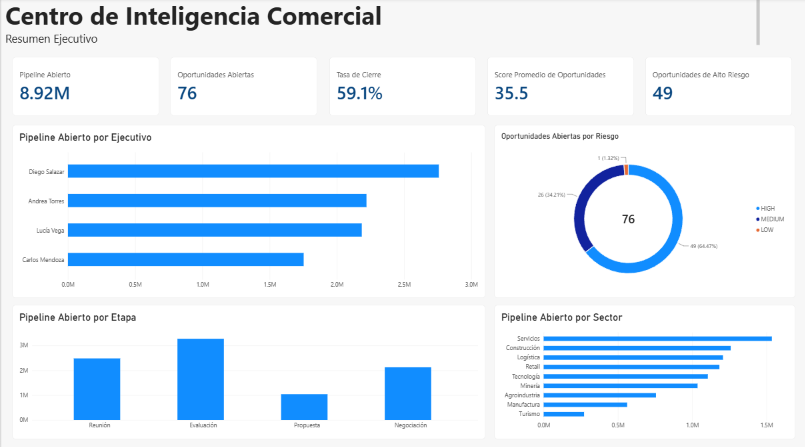

The page's visual inventory and layout, read from the dashboard file:
{"tool":"powerbi","page":{"name":"Resumen Ejecutivo","canvas":[1920,1080],"ordinal":0},"visuals":[{"type":"cardVisual","fields":{"Data":["commercial_dataset.Open Pipeline"]},"box":[26.2,140.8,350,140.8],"z":0},{"type":"cardVisual","fields":{"Data":["commercial_dataset.Open Opportunities"]},"box":[403.8,140.8,350,140.8],"z":1000},{"type":"cardVisual","fields":{"Data":["commercial_dataset.Win Rate"]},"box":[781.4,140.8,350,140.8],"z":2000},{"type":"cardVisual","fields":{"Data":["commercial_dataset.Average Opportunity Score"]},"box":[1159,140.8,350,140.8],"z":3000},{"type":"cardVisual","fields":{"Data":["commercial_dataset.High Risk Opportunities"]},"box":[1536.5,140.8,350,140.8],"z":4000},{"type":"clusteredBarChart","title":"Pipeline Abierto por Ejecutivo","fields":{"Category":["commercial_dataset.assigned_executive"],"Y":["Sum(commercial_dataset.potential_amount)"]},"box":[26.2,303,1128.5,412.8],"z":5000},{"type":"clusteredColumnChart","title":"Pipeline Abierto por Etapa","fields":{"Category":["DimStage.Stage"],"Y":["Sum(commercial_dataset.potential_amount)"]},"box":[26.2,732.5,1128.5,319.7],"z":6000},{"type":"donutChart","title":"Oportunidades Abiertas por Riesgo","fields":{"Category":["commercial_dataset.risk_level"],"Y":["CountNonNull(commercial_dataset.opportunity_id)"]},"box":[1176.3,303,718.2,412.8],"z":7000},{"type":"clusteredBarChart","title":"Pipeline Abierto por Sector","fields":{"Category":["commercial_dataset.sector"],"Y":["Sum(commercial_dataset.potential_amount)"]},"box":[1176.3,732.5,718.2,319.7],"z":8000},{"type":"textbox","box":[10,0,1800,112.5],"z":9000}]}

Visuals, with their boxes in screenshot pixels (x1, y1, x2, y2), scaled from the page's 1920x1080 canvas onto the 805x447 screenshot:
cardVisual - commercial_dataset.Open Pipeline: 11, 58, 158, 117
cardVisual - commercial_dataset.Open Opportunities: 169, 58, 316, 117
cardVisual - commercial_dataset.Win Rate: 328, 58, 474, 117
cardVisual - commercial_dataset.Average Opportunity Score: 486, 58, 633, 117
cardVisual - commercial_dataset.High Risk Opportunities: 644, 58, 791, 117
"Pipeline Abierto por Ejecutivo" clusteredBarChart: 11, 125, 484, 296
"Pipeline Abierto por Etapa" clusteredColumnChart: 11, 303, 484, 435
"Oportunidades Abiertas por Riesgo" donutChart: 493, 125, 794, 296
"Pipeline Abierto por Sector" clusteredBarChart: 493, 303, 794, 435
textbox: 4, 0, 759, 47
